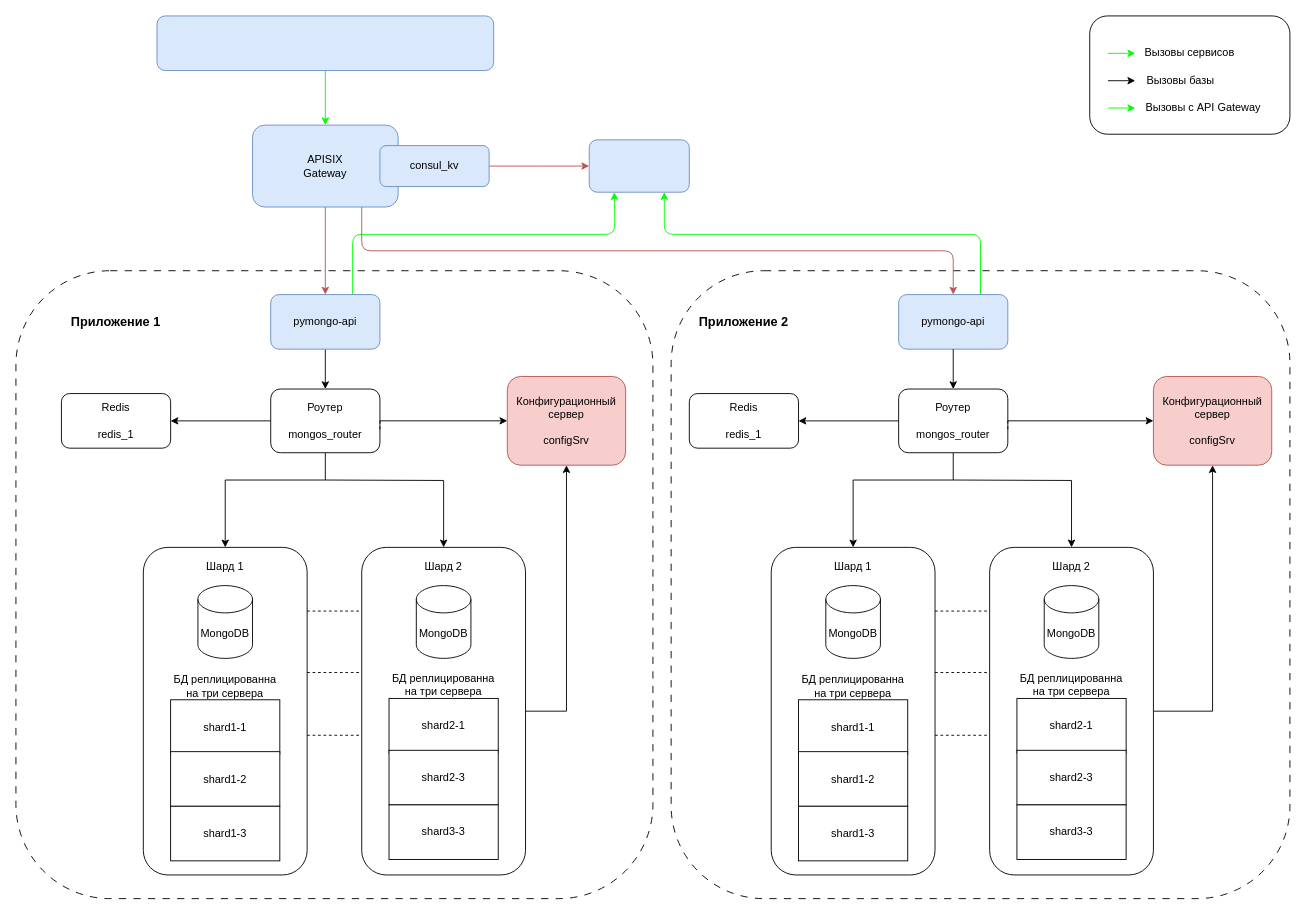
Image size: 1306x915. Some labels were removed from this diagram. Here are the shapes that lost their labels. From the top down, the centre of each, then its label:
At [325,43]: "Сайт React/Nginx".
At [638,165]: "Consul".
